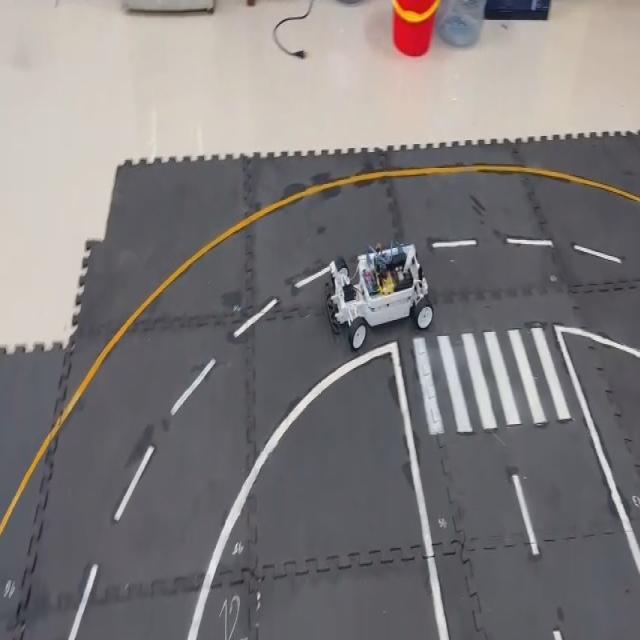SiCo-CAR: (324, 238, 434, 350)
